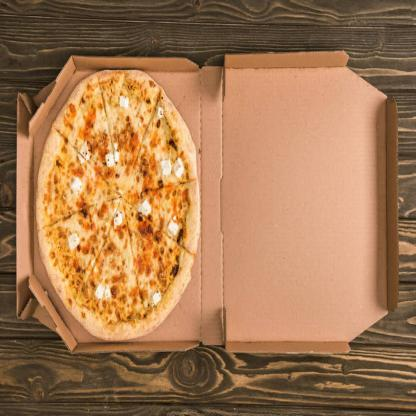pizza: (37, 70, 200, 340)
